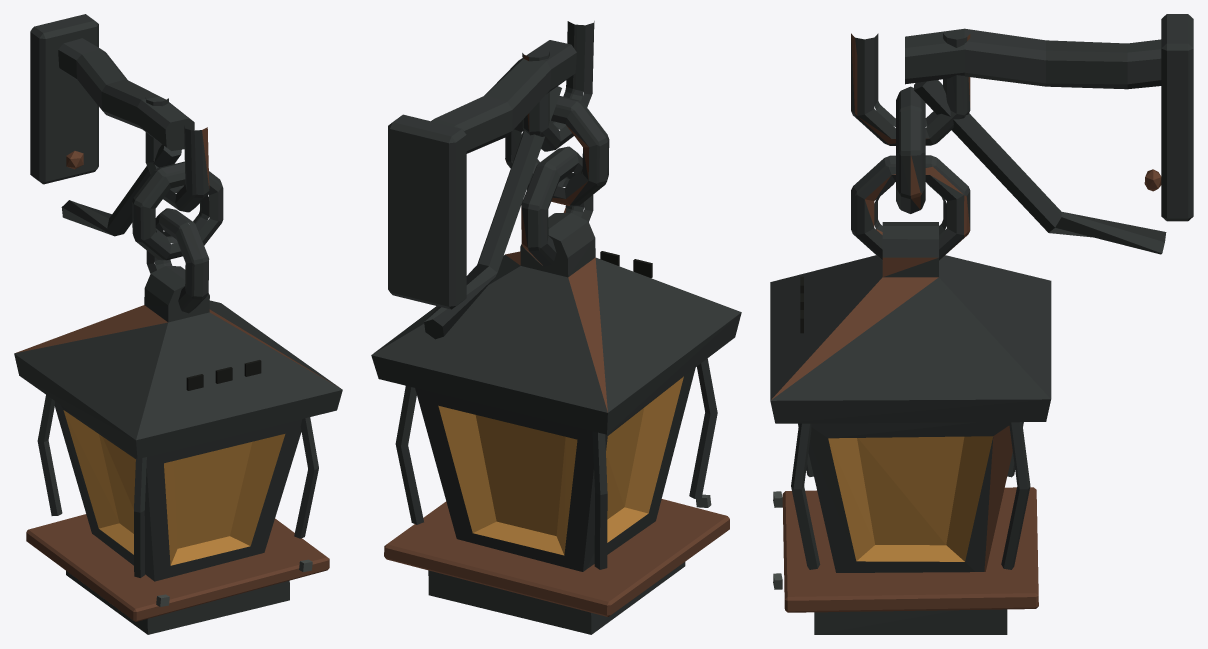
The model's file is lantern-hanging.glb.
3 renders of one model, left to right at view 1: azimuth 30°, elevation 25°; view 2: azimuth 150°, elevation 25°; view 3: azimuth 270°, elevation 25°, orthographic. The views are drawn at different scales.
Visible parts, largest first — view 1: Iron, Glass, Stone; view 2: Iron, Glass; view 3: Iron, Glass.
Boxes of the visible parts, x1,y1,x2,y2 form: Iron: (14, 14, 342, 634); Glass: (63, 410, 285, 565); Stone: (186, 360, 261, 390); Iron: (371, 21, 741, 634); Glass: (438, 376, 683, 555); Iron: (770, 14, 1193, 634); Glass: (828, 436, 993, 561).
Bounding box in the file's own units: 0.2461 × 0.5403 × 0.3666.
